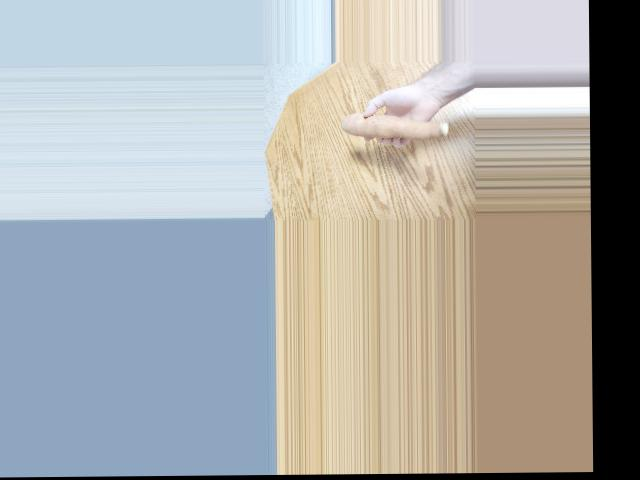sweet_potato: (340, 117, 440, 146)
